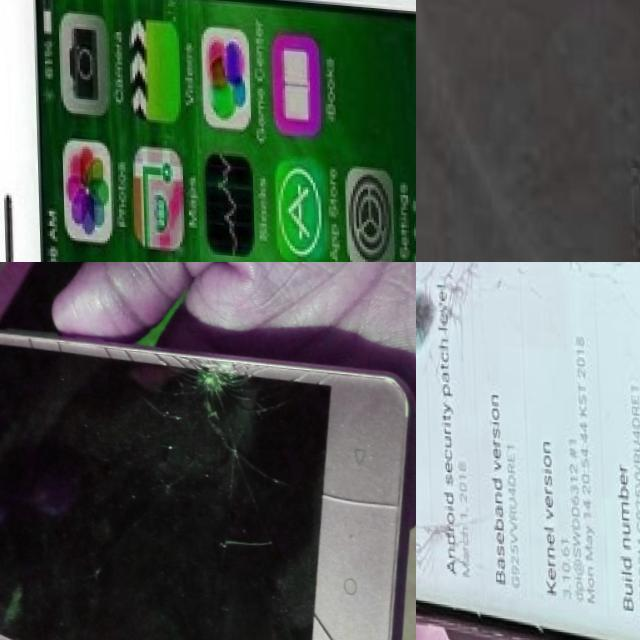screen crack: (95, 338, 413, 640), (416, 481, 467, 599)
